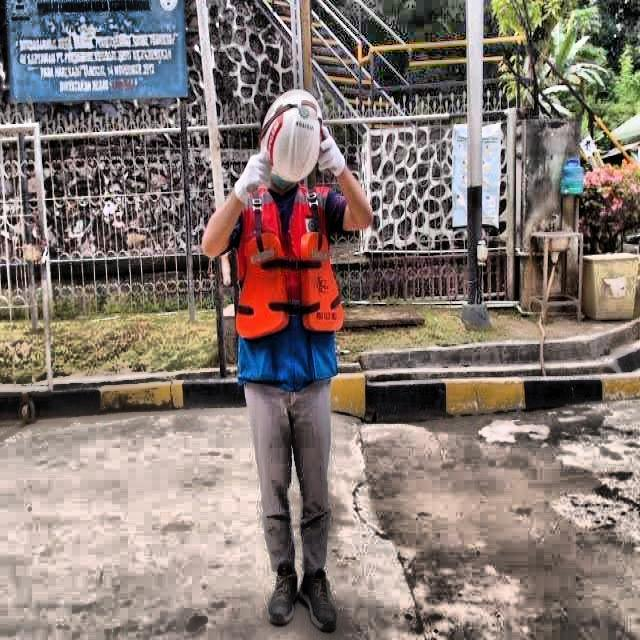safety_helmet: (259, 80, 323, 199)
safety_jacket: (234, 184, 350, 364)
